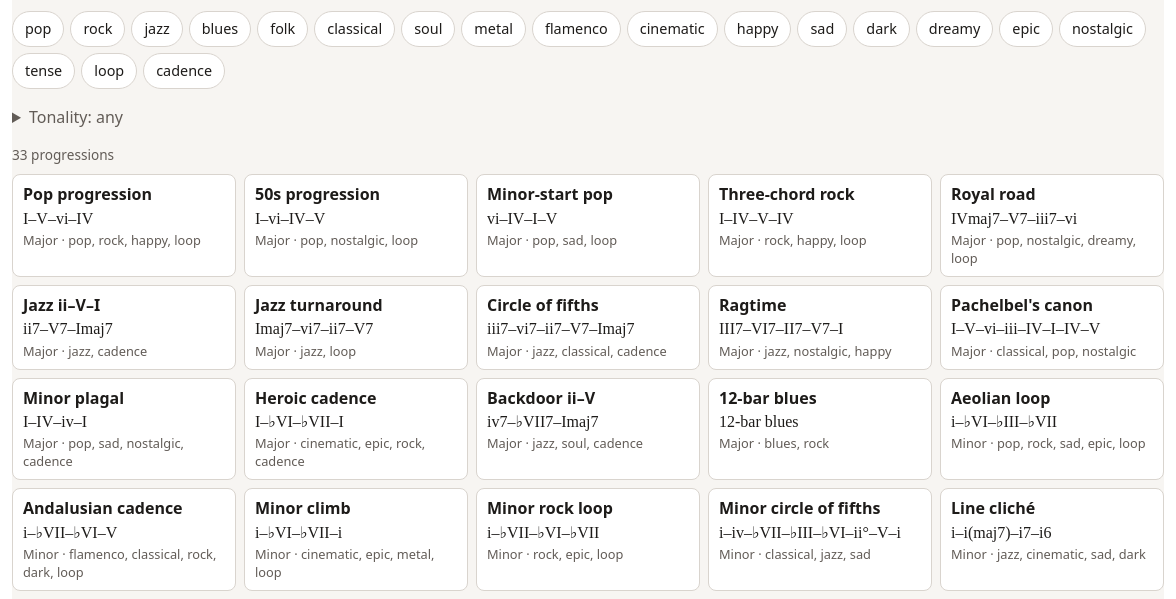
it: ProgressionView › hides cadences and chromatic chords for a mode, which are about major and minor keys
Expected: the text "Cadences in" is not shown
Step 1. Click the button with aria-label "Pop progression:" → (124, 226), box top-left (12, 174), bottom-right (236, 277)
(page scrolled)
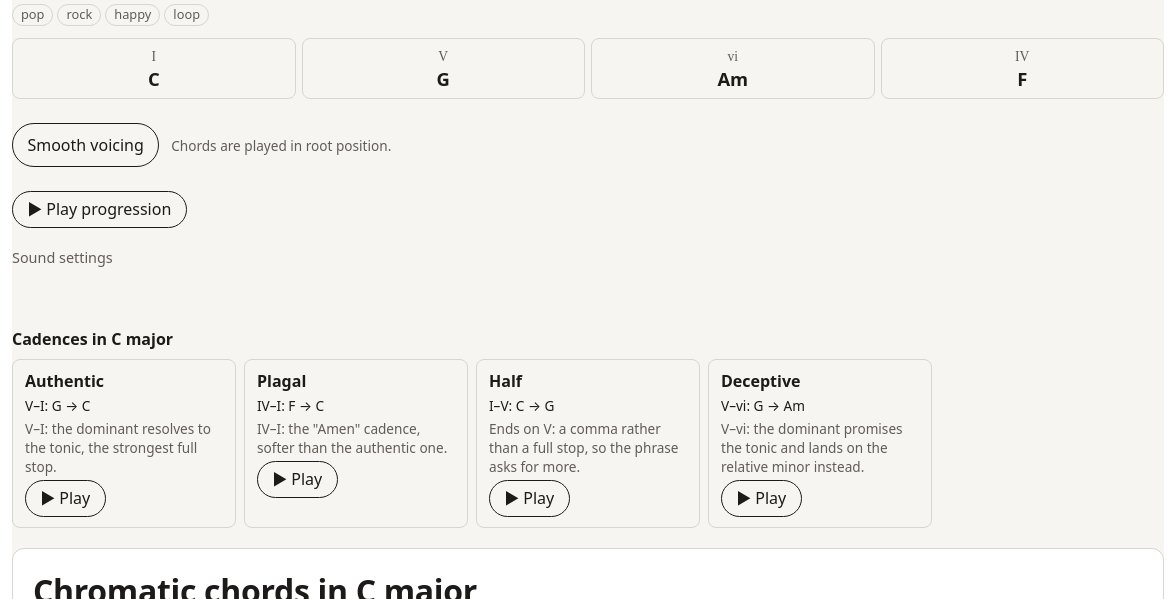
Now the heading "Cadences in C major" is shown, box top-left (12, 328), bottom-right (173, 350)
